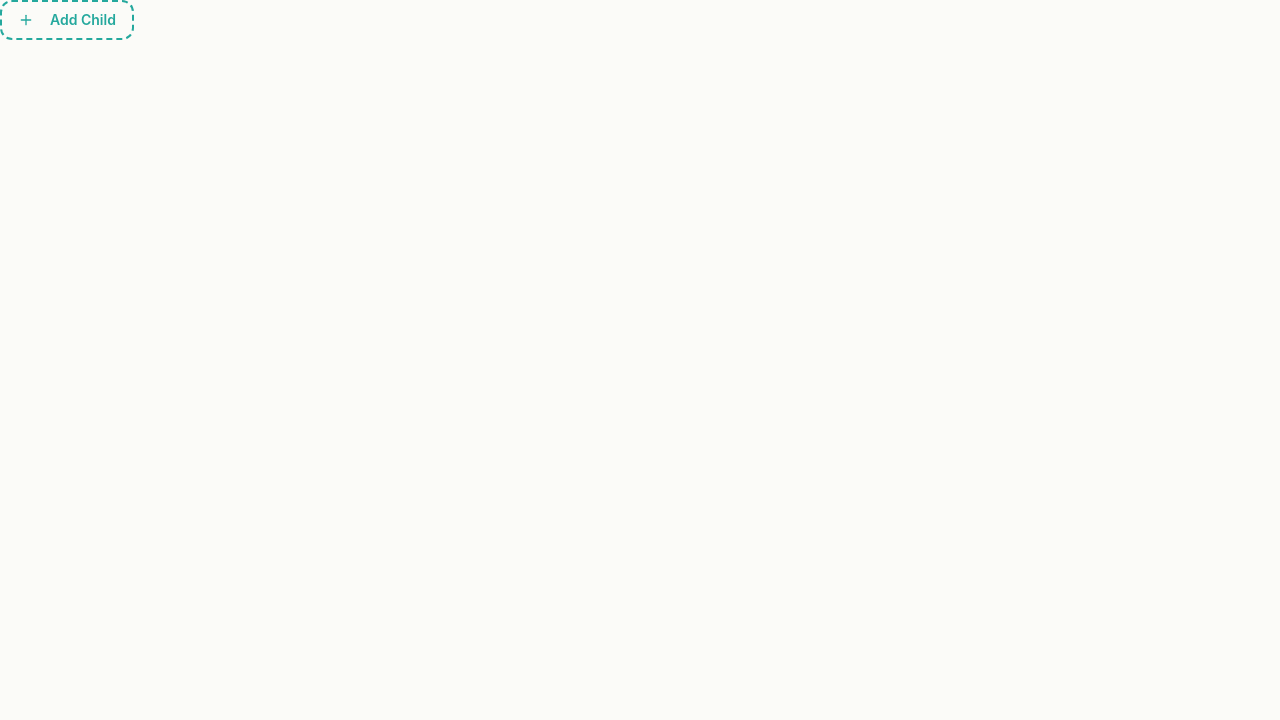
AddChildDialog › closes dialog when Cancel is clicked
The image size is (1280, 720).
Click the button "Add Child": (67,20) [0,0,134,40]
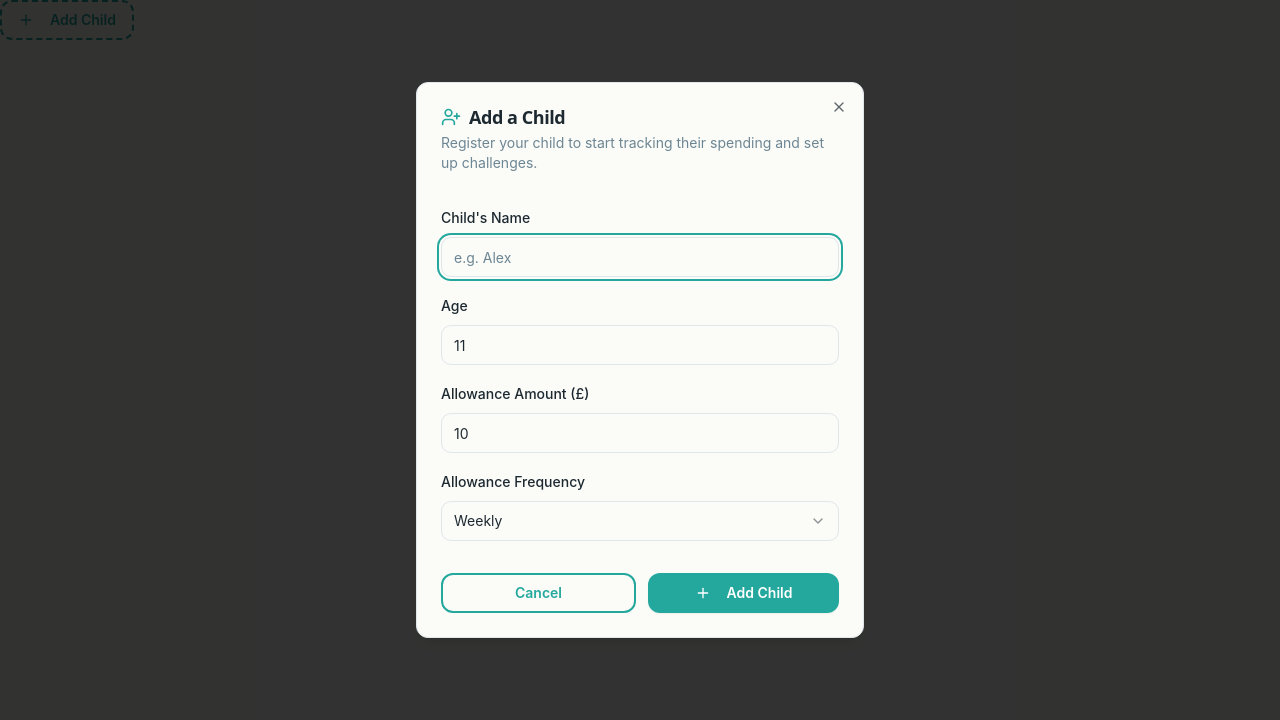
Expected: the heading "Add a Child" is shown, [441,105,565,129]
Click the button "Cancel": (538,593) [441,573,636,613]
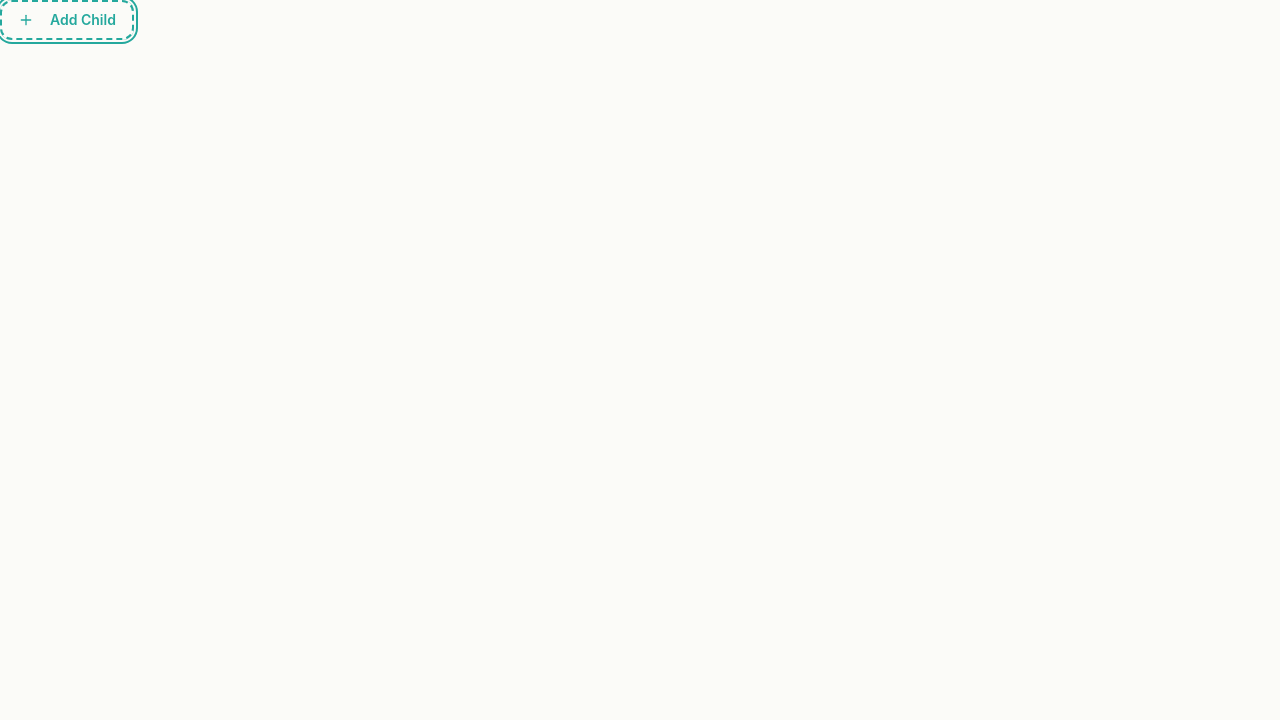
Expected: the heading "Add a Child" is gone
